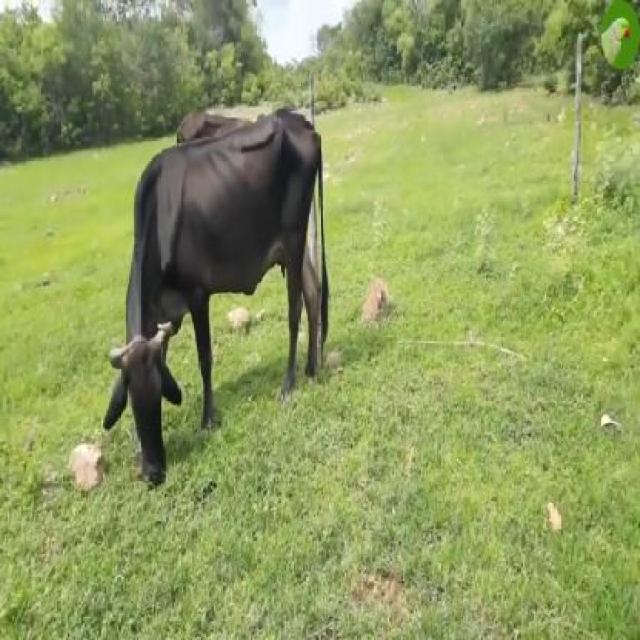Cow: (103, 110, 328, 492)
